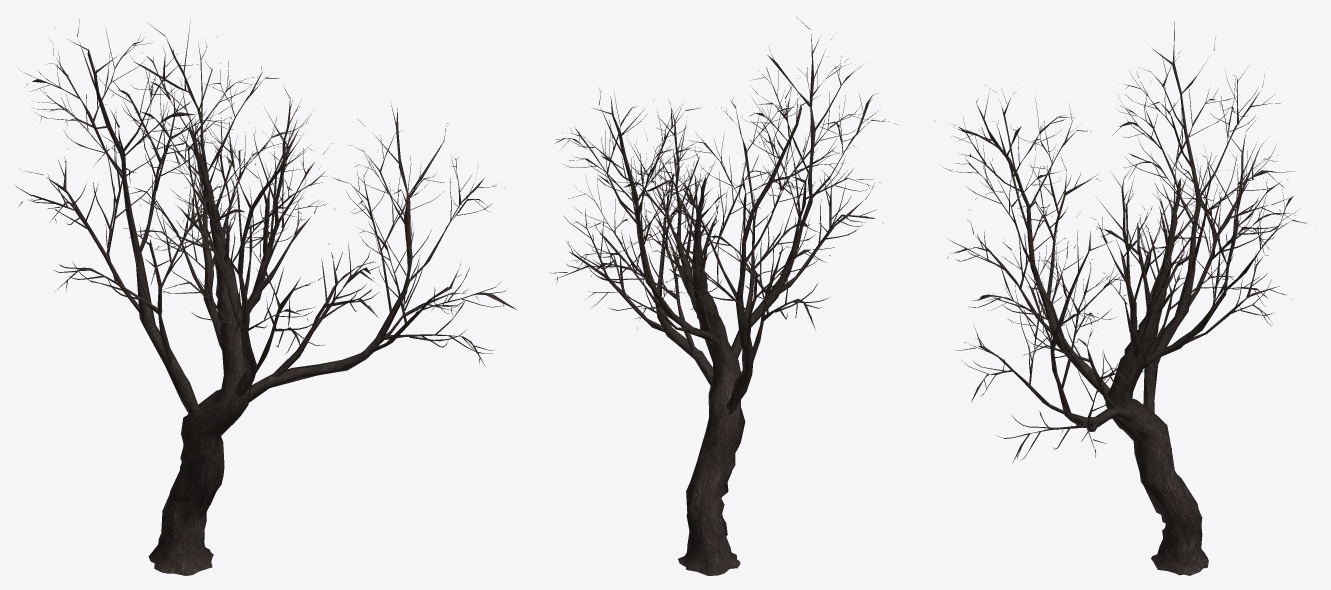
The model's file is Bark01.fbx.
3 views of the same model, side by side, from view 1: azimuth 30°, elevation 25°; view 2: azimuth 150°, elevation 25°; view 3: azimuth 270°, elevation 25° (orthographic). The views are drawn at different scales.
Visible parts, largest first — view 1: Bark01; view 2: Bark01; view 3: Bark01.
Part boxes in pixels (left/top/right/bottom): Bark01: left=15, top=18, right=517, bottom=575; Bark01: left=550, top=17, right=897, bottom=575; Bark01: left=934, top=21, right=1306, bottom=575.
Bounding box in the file's own units: 655 × 927 × 696.
